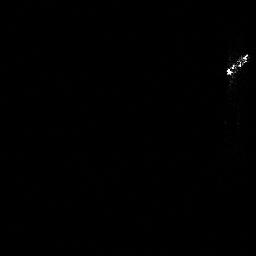ship: (226, 51, 249, 76)
